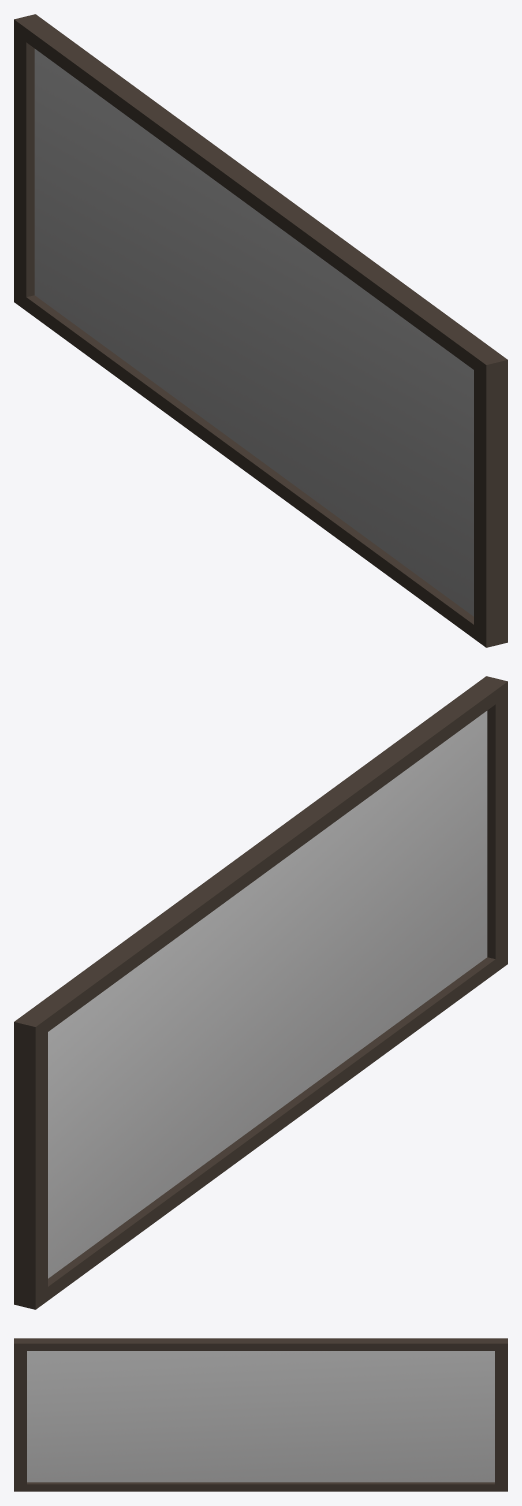
The model's file is Wall Medium.fbx.
3 views of the same model, one above another, from view 1: azimuth 30°, elevation 25°; view 2: azimuth 150°, elevation 25°; view 3: azimuth 270°, elevation 25° (orthographic). The views are drawn at different scales.
Visible parts, largest first — view 1: pCube32; view 2: pCube32; view 3: pCube32.
Part boxes in pixels (x1=…): pCube32: x1=14, y1=14, x2=507, y2=647; pCube32: x1=14, y1=676, x2=507, y2=1309; pCube32: x1=14, y1=1338, x2=507, y2=1491.
Size of the model in its own units: 1 by 12.5 by 37.84.
Materials: 1 (1 with a texture image).
